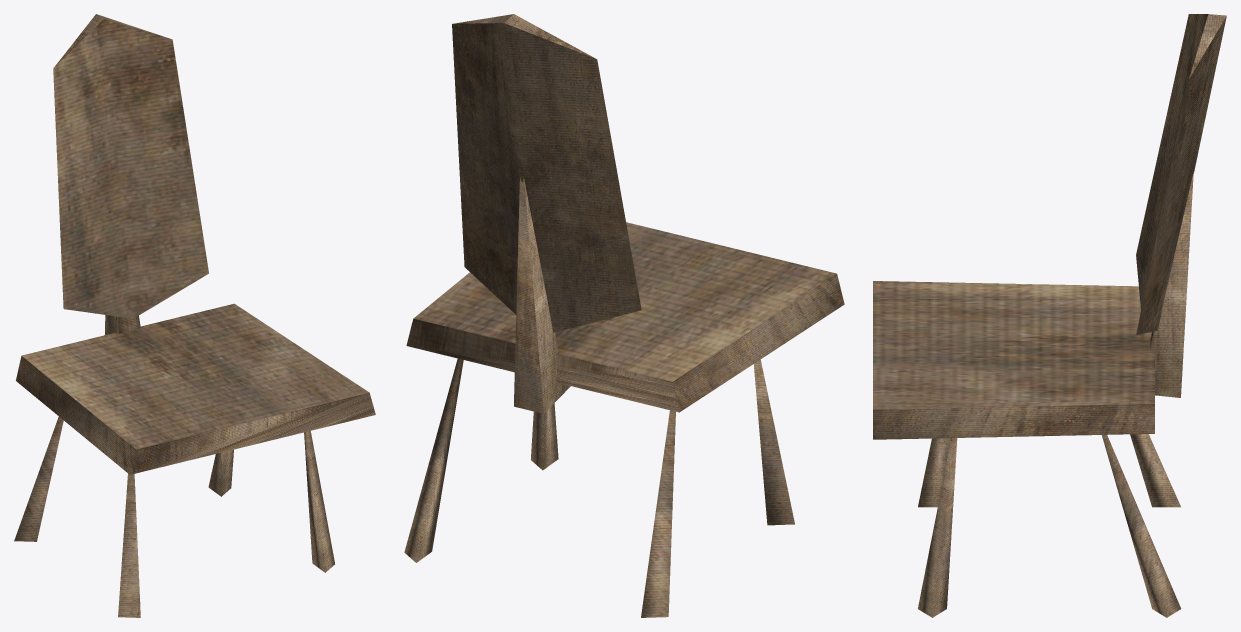
Rendered from frn_tato_chair_cafe_s02_l2.fbx.
3 views of the same model, side by side, from view 1: azimuth 30°, elevation 25°; view 2: azimuth 150°, elevation 25°; view 3: azimuth 270°, elevation 25° (orthographic). The views are drawn at different scales.
Parts seen in each view (by area): view 1: mesh_node; view 2: mesh_node; view 3: mesh_node.
Boxes of the visible parts, x1=… form: mesh_node: x1=14, y1=14, x2=375, y2=617; mesh_node: x1=404, y1=14, x2=844, y2=617; mesh_node: x1=873, y1=14, x2=1226, y2=617.
Size of the model in its own units: 0.5451 by 1.02 by 0.6022.
